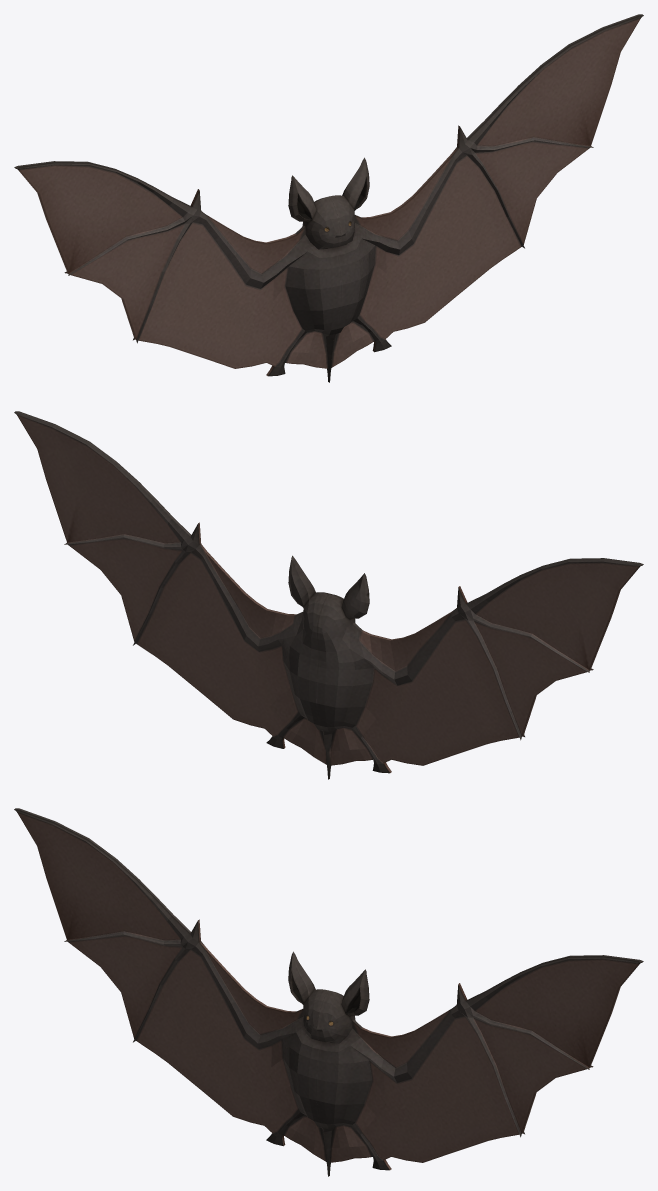
Rendered from Bat_022.FBX.
The picture shows the model from 3 angles, top to bottom: view 1: azimuth 30°, elevation 25°; view 2: azimuth 150°, elevation 25°; view 3: azimuth 330°, elevation 25°; orthographic projection.
Visible parts, largest first — view 1: Bat_Wing_Left_01, Bat_Wing_Right_01, Bat_01; view 2: Bat_Wing_Left_01, Bat_Wing_Right_01, Bat_01; view 3: Bat_Wing_Right_01, Bat_Wing_Left_01, Bat_01.
Boxes of the visible parts, left/top/right/bottom form: Bat_Wing_Left_01: left=331, top=14, right=643, bottom=367; Bat_Wing_Right_01: left=14, top=161, right=327, bottom=376; Bat_01: left=284, top=157, right=379, bottom=382; Bat_Wing_Left_01: left=14, top=411, right=326, bottom=764; Bat_Wing_Right_01: left=330, top=558, right=643, bottom=773; Bat_01: left=282, top=555, right=374, bottom=779; Bat_Wing_Right_01: left=14, top=808, right=326, bottom=1161; Bat_Wing_Left_01: left=330, top=955, right=643, bottom=1170; Bat_01: left=278, top=951, right=373, bottom=1176.
Bounding box in the file's own units: 21.27 × 9.43 × 1.44.
